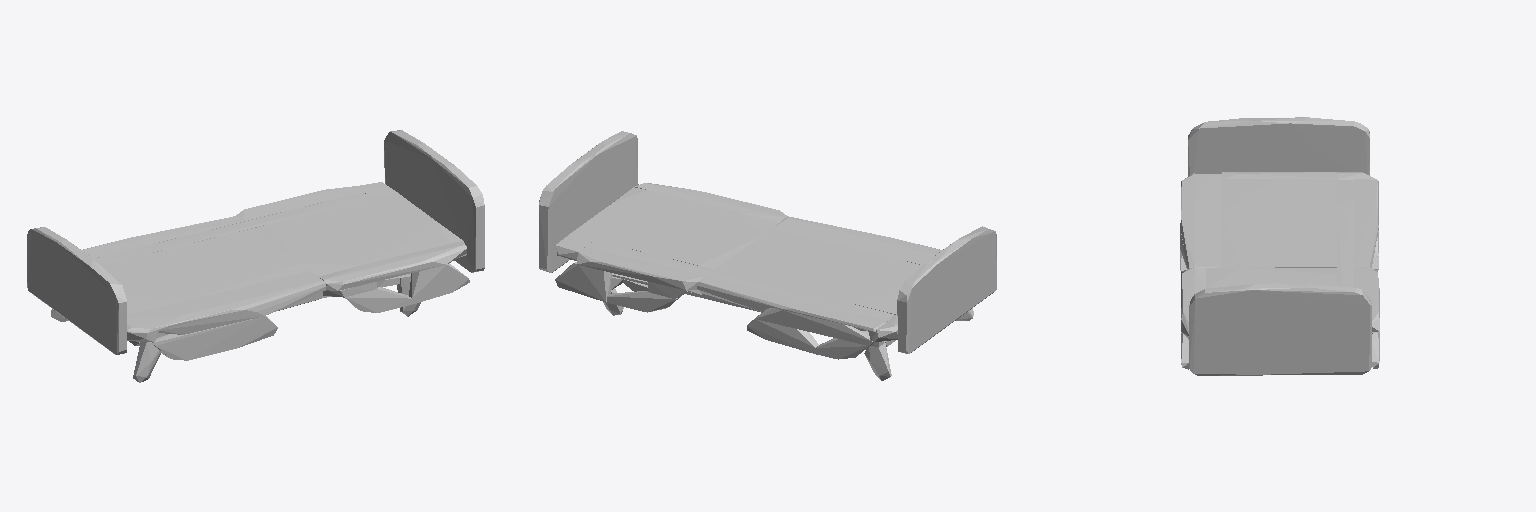
The model's file is hospital_bed_frame_vhacd.obj.
3 views of the same model, side by side, from view 1: azimuth 30°, elevation 25°; view 2: azimuth 150°, elevation 25°; view 3: azimuth 270°, elevation 25° (orthographic).
Parts seen in each view (by area): view 1: convex_4, convex_7, convex_0, convex_1, convex_37, convex_20, convex_34, convex_23, convex_22, convex_29, convex_8, convex_35 (+2 smaller); view 2: convex_4, convex_7, convex_0, convex_1, convex_37, convex_22, convex_23, convex_35, convex_17, convex_34, convex_25, convex_30 (+4 smaller); view 3: convex_1, convex_7, convex_0, convex_37, convex_4, convex_22, convex_23, convex_34, convex_35, convex_6.
Boxes of the visible parts, x1,y1,x2,y2 form: convex_4: [253, 193, 449, 276]; convex_7: [101, 228, 309, 314]; convex_0: [27, 227, 126, 354]; convex_1: [384, 130, 484, 272]; convex_37: [127, 271, 325, 332]; convex_20: [150, 316, 277, 360]; convex_34: [319, 241, 466, 290]; convex_23: [94, 192, 371, 264]; convex_22: [82, 216, 243, 258]; convex_29: [409, 263, 469, 304]; convex_8: [158, 286, 326, 334]; convex_35: [236, 186, 362, 221]; convex_4: [570, 190, 778, 269]; convex_7: [715, 229, 922, 314]; convex_0: [897, 226, 996, 353]; convex_1: [539, 131, 638, 272]; convex_37: [772, 216, 941, 264]; convex_22: [697, 276, 887, 331]; convex_23: [586, 240, 893, 320]; convex_35: [577, 247, 704, 290]; convex_17: [755, 308, 873, 345]; convex_34: [635, 183, 787, 222]; convex_25: [555, 262, 611, 302]; convex_30: [747, 319, 818, 353]; convex_1: [1189, 283, 1371, 375]; convex_7: [1222, 178, 1336, 267]; convex_0: [1188, 117, 1369, 176]; convex_37: [1180, 173, 1221, 268]; convex_4: [1206, 267, 1336, 288]; convex_22: [1354, 179, 1378, 267]; convex_23: [1337, 180, 1354, 287]; convex_34: [1181, 267, 1205, 338]; convex_35: [1355, 267, 1379, 331]; convex_6: [1222, 172, 1336, 178].
Bounding box in the file's own units: 2.34 × 0.7023 × 1.09.